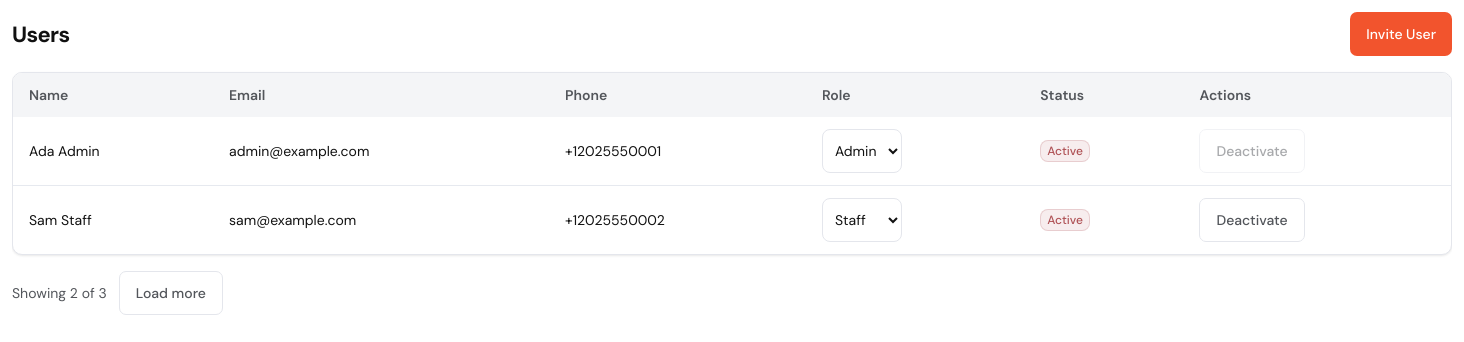
Test: Users — paging › appends the next page from the Load more control
Expected: the text "Showing 2 of 3" is shown, x1=12 y1=283 x2=107 y2=303
Click the button "Load more".
click(171, 293)  # box x1=119 y1=271 x2=223 y2=315
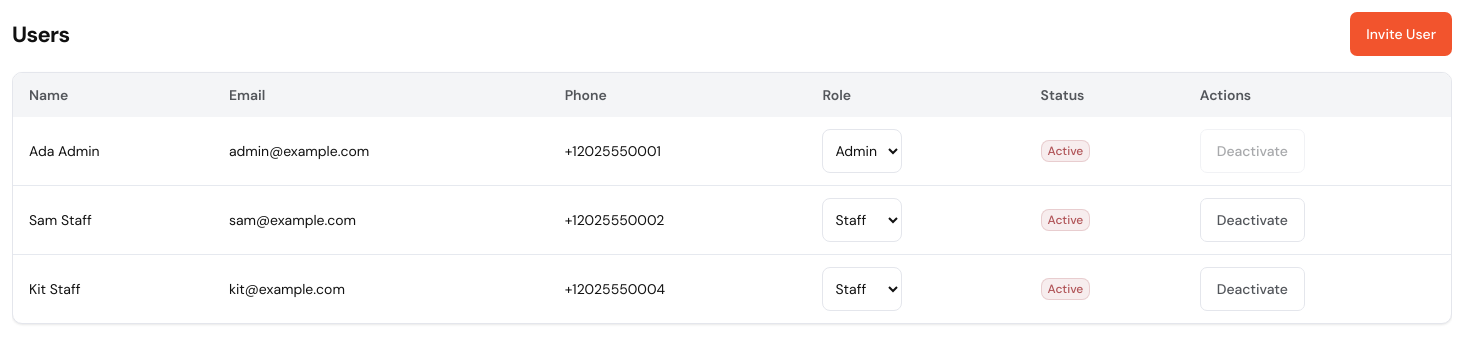
Expected: the text "Kit Staff" is shown, x1=13 y1=254 x2=213 y2=323
Expected: the button "Load more" is gone
